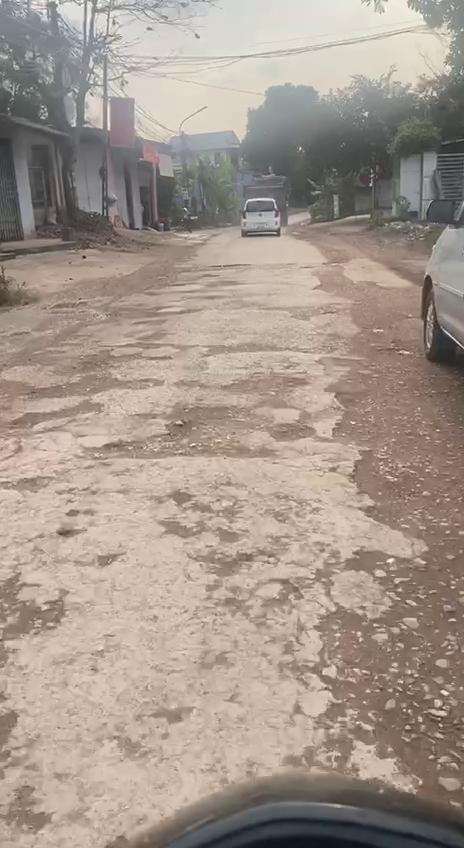pothole: (305, 538, 464, 814), (83, 404, 274, 458), (8, 369, 166, 434), (348, 445, 416, 530), (0, 563, 66, 639), (2, 776, 44, 842), (326, 382, 370, 440), (221, 372, 305, 396), (1, 470, 60, 496), (203, 340, 278, 358), (266, 417, 319, 442)
